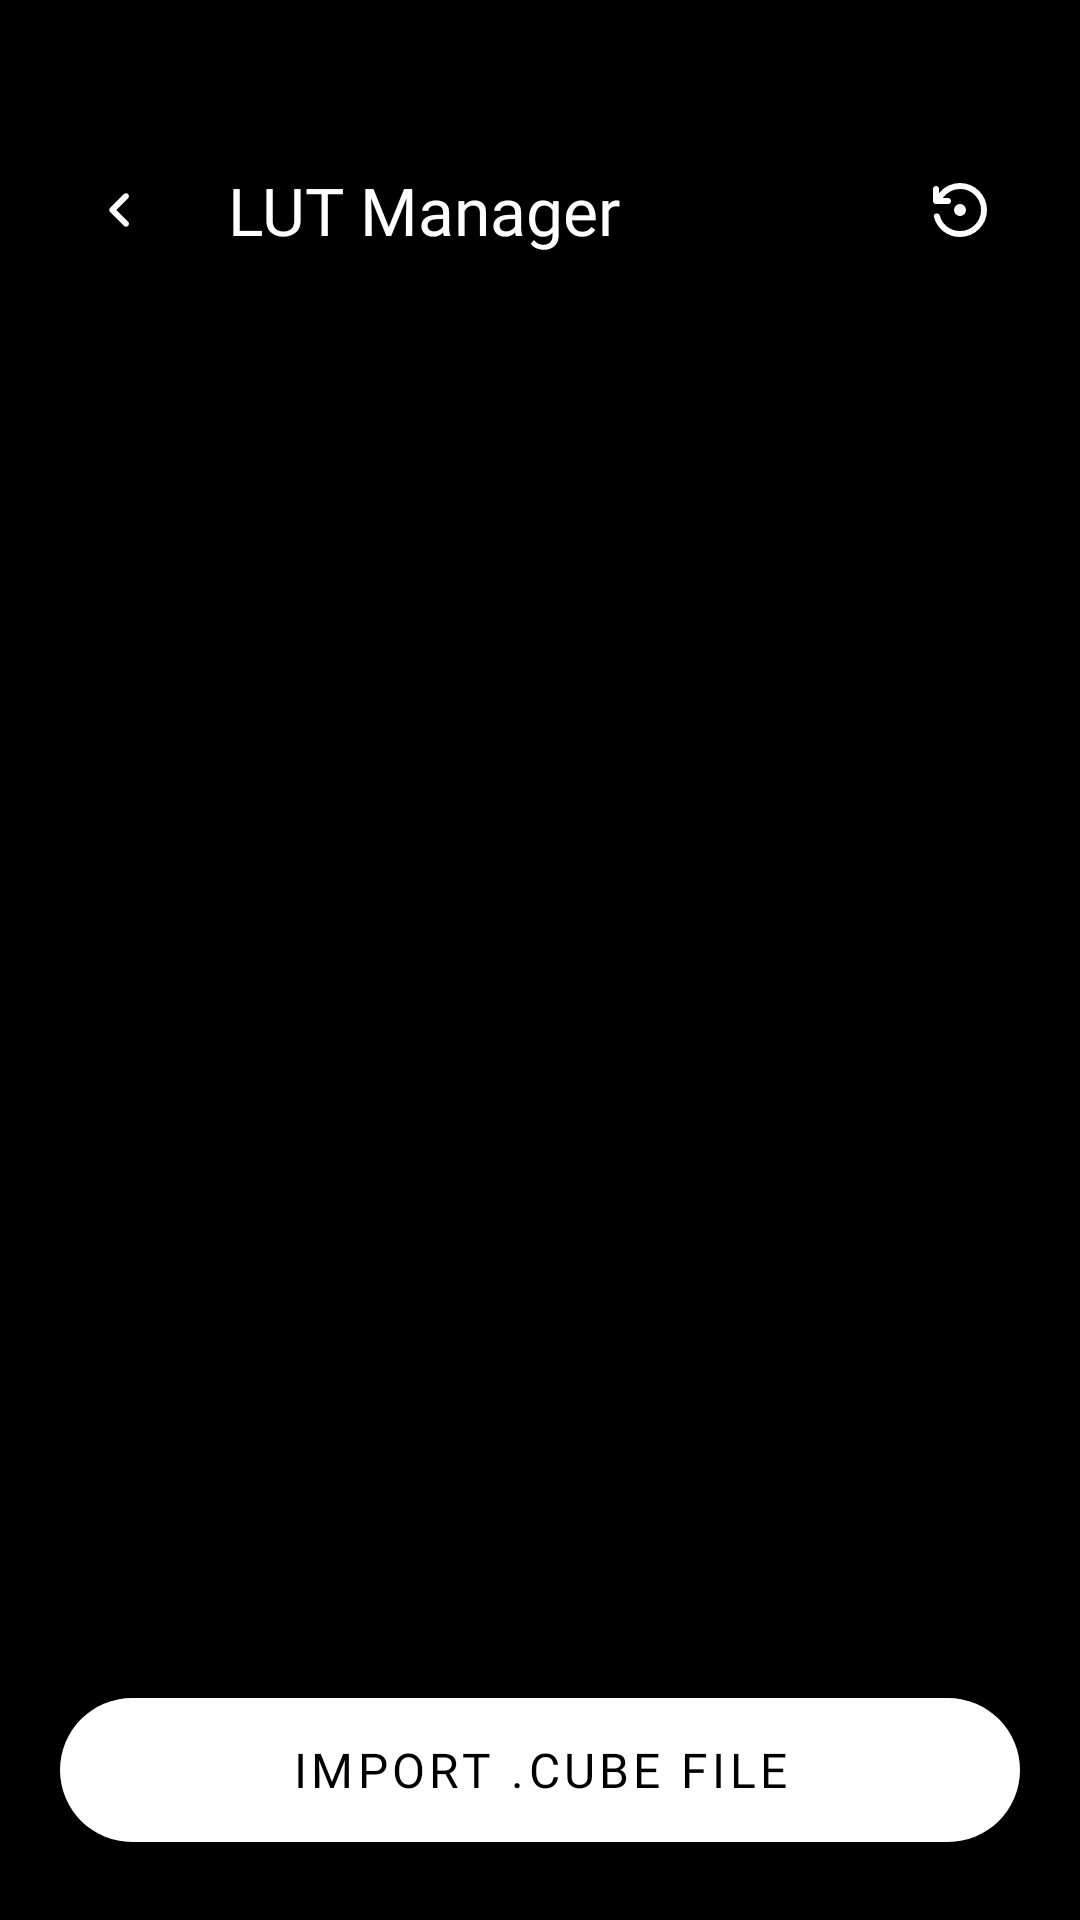

Screen size 1080*1920. Icon name, then its center in pixels as (x,y):
arrow back: (119,210)
restore: (960,210)
